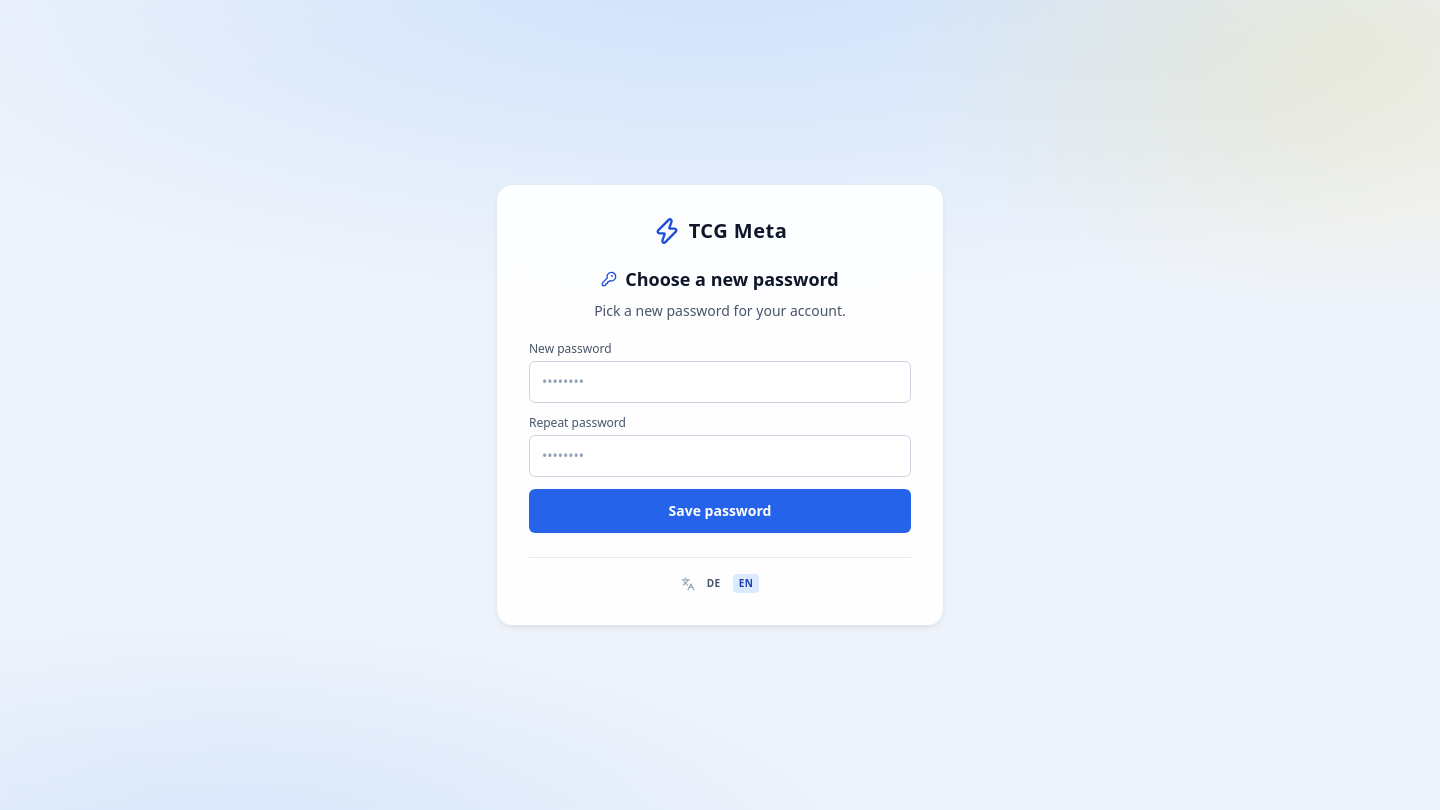
Test case: ResetPasswordView › submits the new password and shows the success state
Type "longenough1" into the password field labelled "New password" at point(720, 382), box [529,361,911,403]
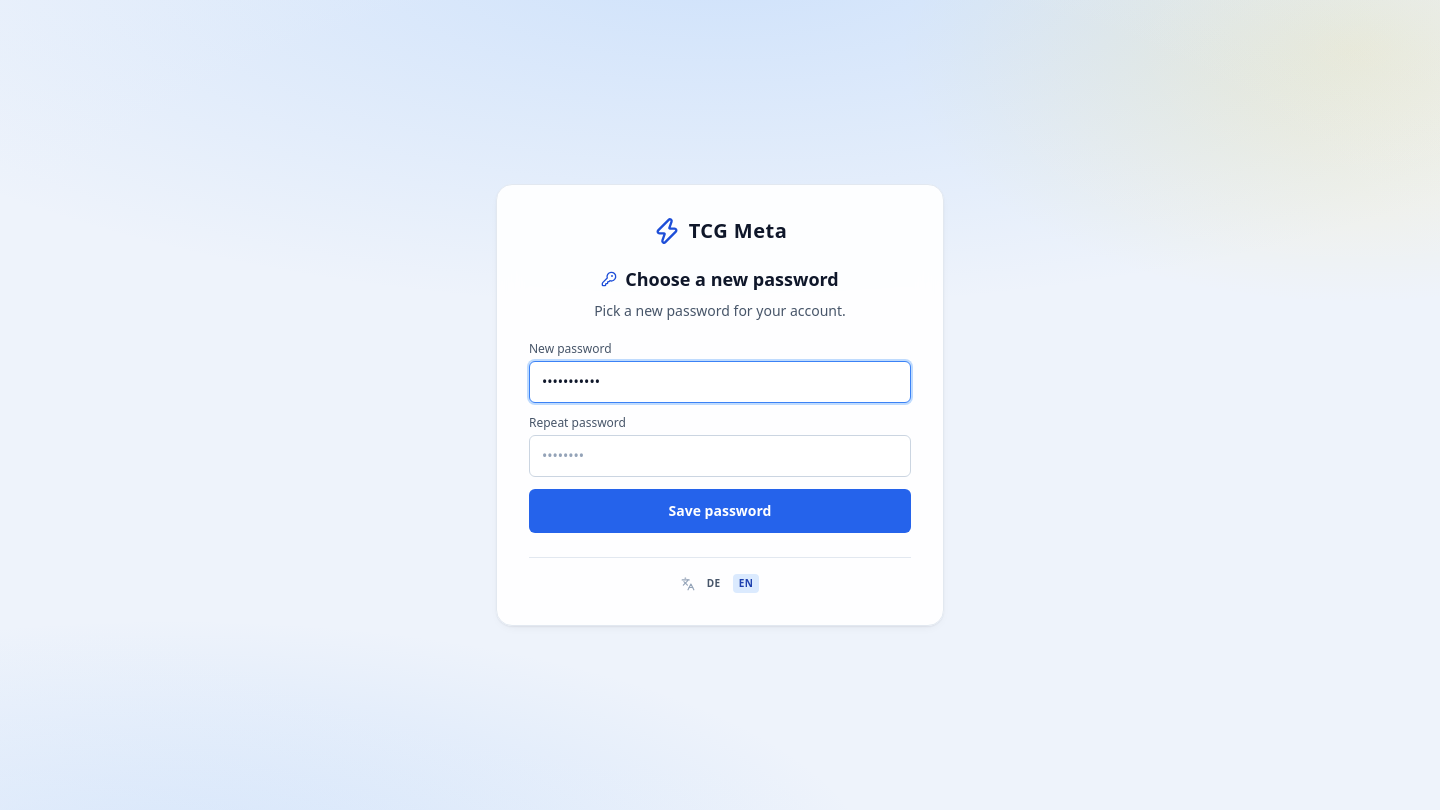
Type "longenough1" into the password field labelled "Repeat password" at point(720, 456), box [529,435,911,477]
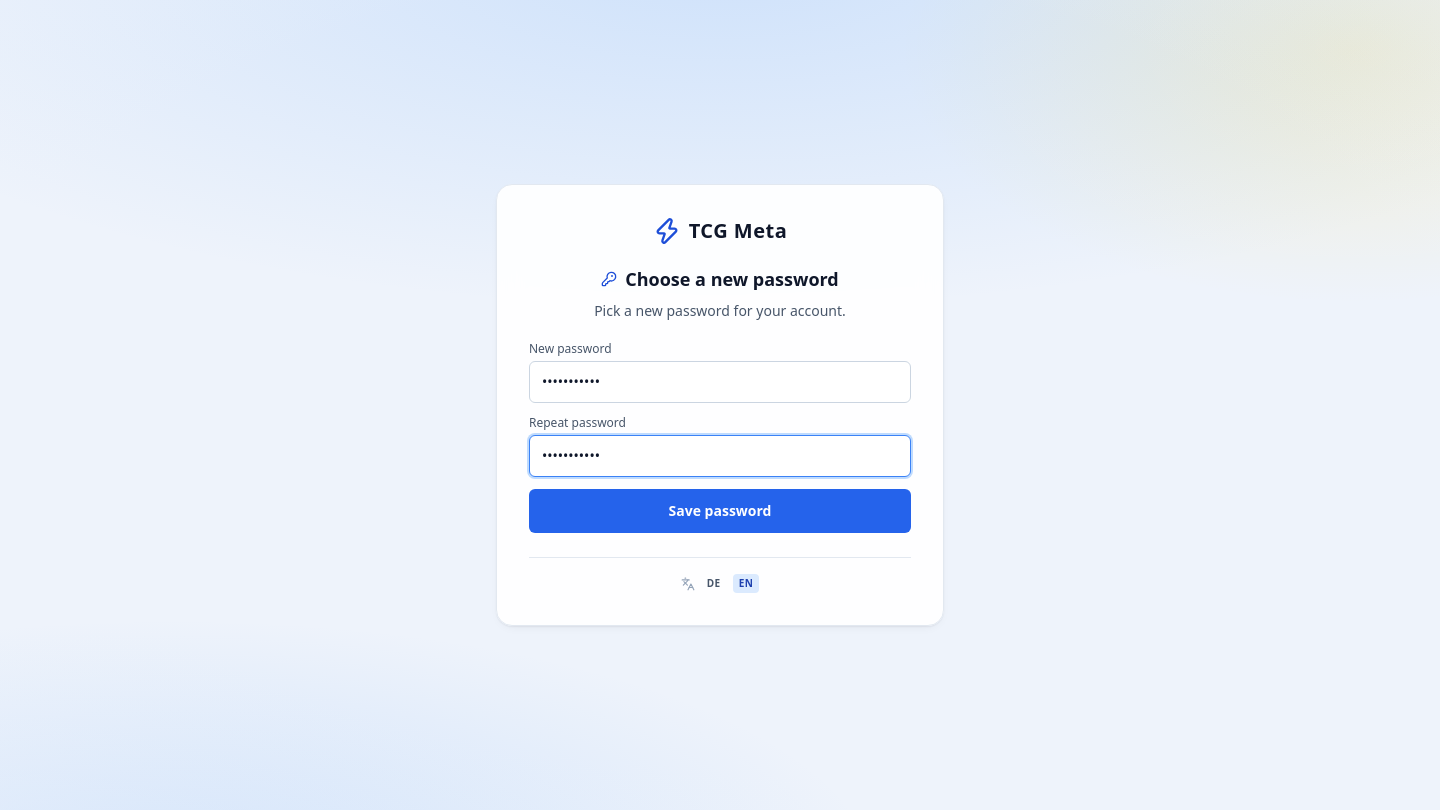
Click the button "Save password" at point(720, 511), box [529,489,911,533]
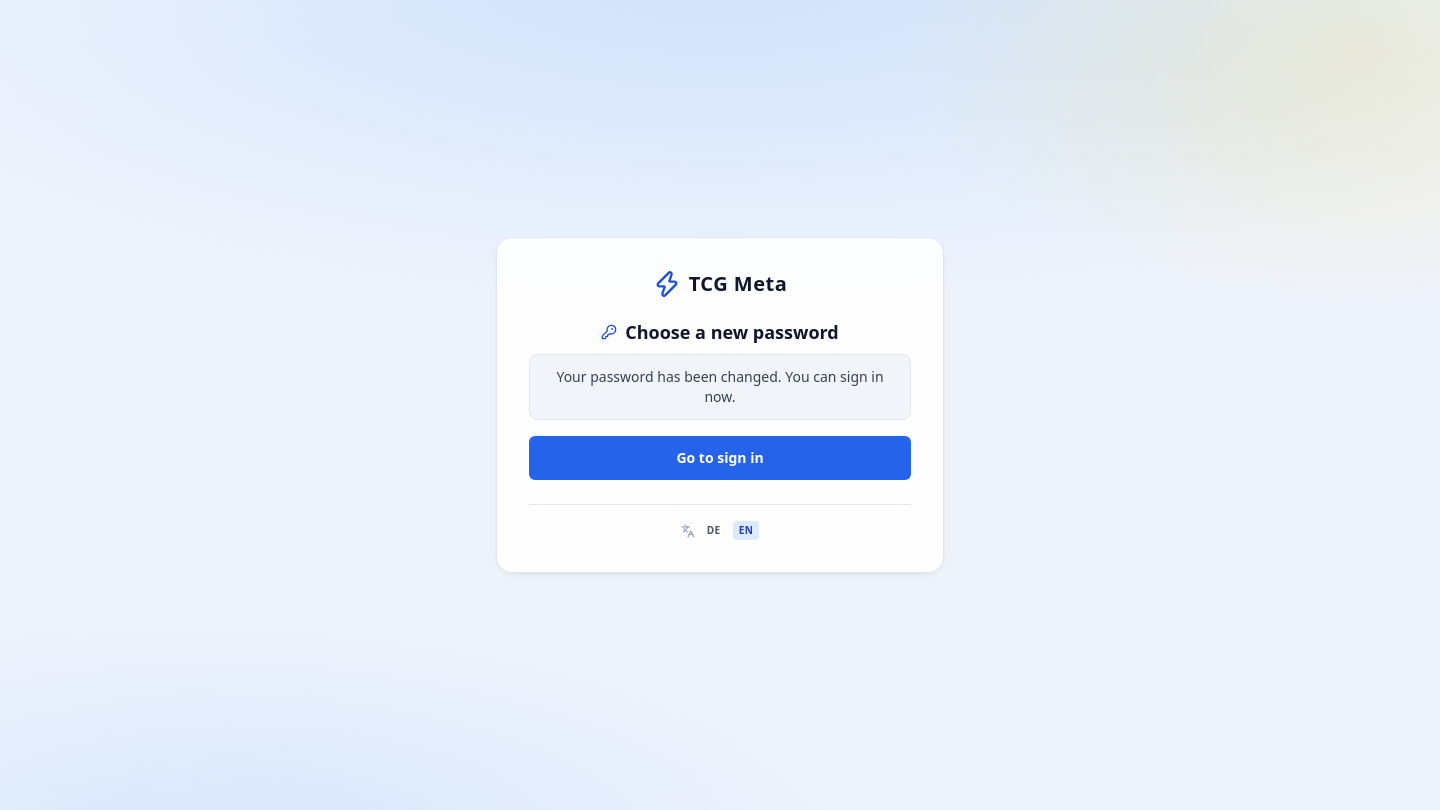
Now the message reads "Your password has been changed. You can sign in now.", box [556,367,884,406]
Now the button "Go to sign in" is shown, box [529,436,911,480]
